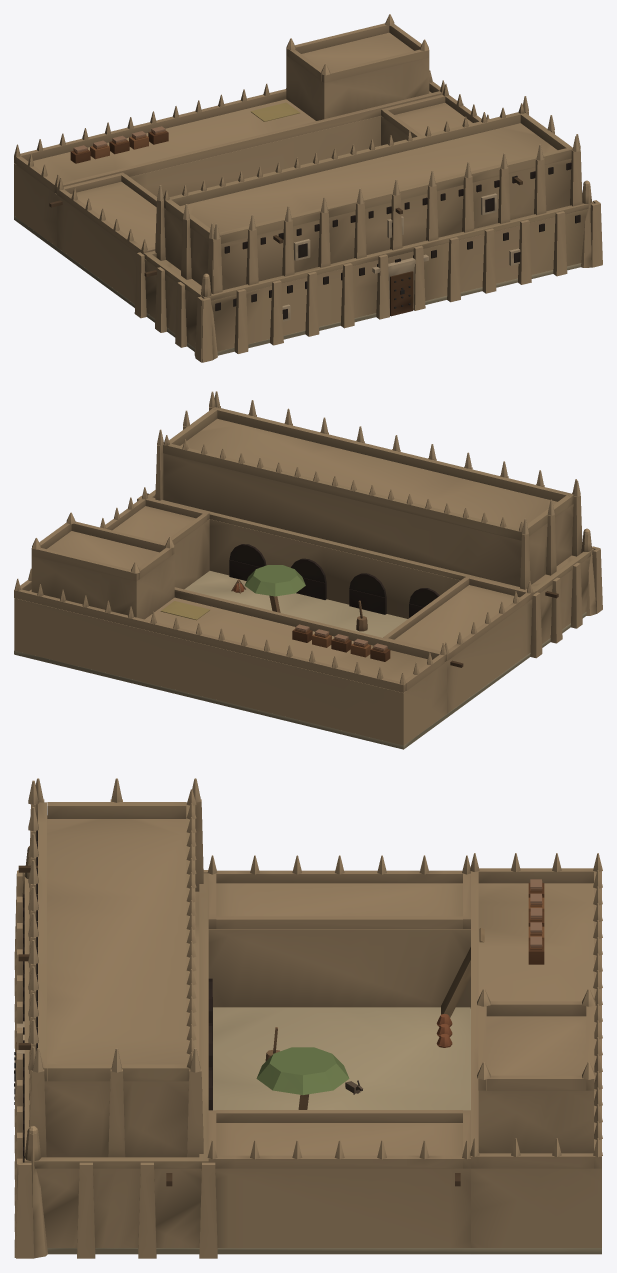
File: aqit-house.glb
3 renders of one model, top to bottom at view 1: azimuth 30°, elevation 25°; view 2: azimuth 150°, elevation 25°; view 3: azimuth 270°, elevation 25°, orthographic. The views are drawn at different scales.
Parts seen in each view (by area): view 1: p1_ground floor, p2_upper storey, p0_ground; view 2: p1_ground floor, p2_upper storey, p0_ground; view 3: p1_ground floor, p2_upper storey, p0_ground.
Part boxes in pixels (x1,y1,x2,y2): p1_ground floor: [14, 70, 602, 362]; p2_upper storey: [49, 14, 582, 294]; p0_ground: [14, 216, 581, 355]; p1_ground floor: [14, 487, 602, 749]; p2_upper storey: [31, 391, 582, 667]; p0_ground: [14, 571, 586, 749]; p1_ground floor: [14, 846, 602, 1258]; p2_upper storey: [18, 778, 595, 1186]; p0_ground: [47, 1007, 601, 1253].
Bounding box in the file's own units: 27.5 × 8.26 × 22.46.
